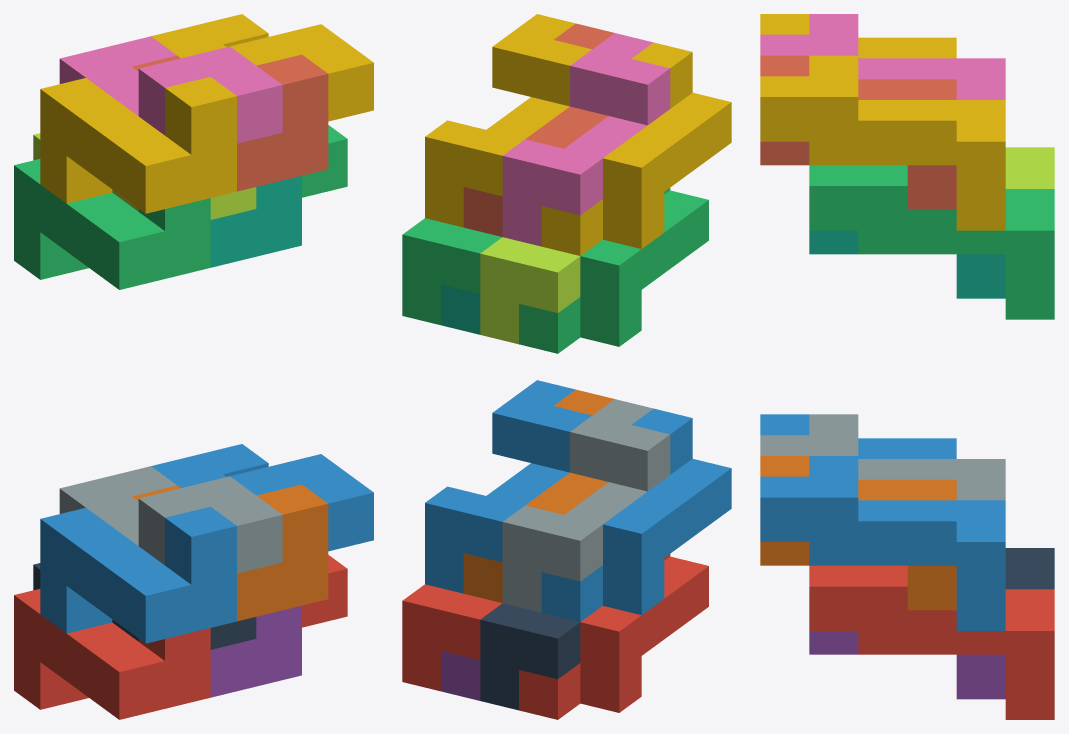
The model's file is tiling.obj.
3 views of the same model, side by side, from view 1: azimuth 30°, elevation 25°; view 2: azimuth 150°, elevation 25°; view 3: azimuth 270°, elevation 25° (orthographic). The views are drawn at different scales.
Visible parts, largest first — view 1: copy_1_domain_2, copy_1_domain_4, copy_1_domain_3, copy_1_domain_1, copy_2_domain_2, copy_2_domain_4, copy_2_domain_6, copy_2_domain_8, copy_1_domain_6, copy_1_domain_8, copy_1_domain_5, copy_1_domain_7 (+4 smaller); view 2: copy_2_domain_4, copy_2_domain_2, copy_1_domain_4, copy_1_domain_2, copy_2_domain_8, copy_2_domain_6, copy_1_domain_1, copy_1_domain_3, copy_2_domain_3, copy_2_domain_1, copy_2_domain_5, copy_2_domain_7 (+4 smaller); view 3: copy_2_domain_8, copy_2_domain_6, copy_2_domain_7, copy_2_domain_5, copy_2_domain_4, copy_2_domain_2, copy_1_domain_6, copy_1_domain_8, copy_1_domain_5, copy_1_domain_7, copy_1_domain_4, copy_1_domain_2 (+2 smaller).
Boxes of the visible parts, box(x1,y1,x2,y2) form: copy_1_domain_2: box(40, 506, 236, 643); copy_1_domain_4: box(40, 77, 236, 213); copy_1_domain_3: box(14, 159, 210, 289); copy_1_domain_1: box(14, 589, 210, 719); copy_2_domain_2: box(59, 466, 282, 573); copy_2_domain_4: box(59, 36, 282, 143); copy_2_domain_6: box(151, 444, 373, 551); copy_2_domain_8: box(151, 14, 373, 121); copy_1_domain_6: box(132, 484, 328, 621); copy_1_domain_8: box(132, 54, 328, 191); copy_1_domain_5: box(210, 605, 301, 697); copy_1_domain_7: box(210, 176, 301, 267); copy_2_domain_4: box(502, 33, 670, 246); copy_2_domain_2: box(502, 399, 670, 612); copy_1_domain_4: box(541, 42, 731, 255); copy_1_domain_2: box(541, 408, 731, 621); copy_2_domain_8: box(425, 14, 591, 227); copy_2_domain_6: box(425, 380, 591, 593); copy_1_domain_1: box(519, 554, 708, 719); copy_1_domain_3: box(519, 188, 708, 353); copy_2_domain_3: box(480, 237, 580, 344); copy_2_domain_1: box(480, 603, 580, 710); copy_2_domain_5: box(402, 584, 502, 691); copy_2_domain_7: box(402, 218, 502, 325); copy_2_domain_8: box(760, 55, 1005, 230); copy_2_domain_6: box(760, 456, 1005, 630); copy_2_domain_7: box(809, 165, 1054, 319); copy_2_domain_5: box(809, 565, 1054, 719); copy_2_domain_4: box(760, 14, 1005, 99); copy_2_domain_2: box(760, 414, 1005, 500); copy_1_domain_6: box(760, 456, 956, 610); copy_1_domain_8: box(760, 55, 956, 209); copy_1_domain_5: box(809, 631, 1005, 699); copy_1_domain_7: box(809, 230, 1005, 298); copy_1_domain_4: box(760, 14, 956, 58); copy_1_domain_2: box(760, 414, 956, 458).
Bounding box in the file's own units: 5 × 14 × 6.
